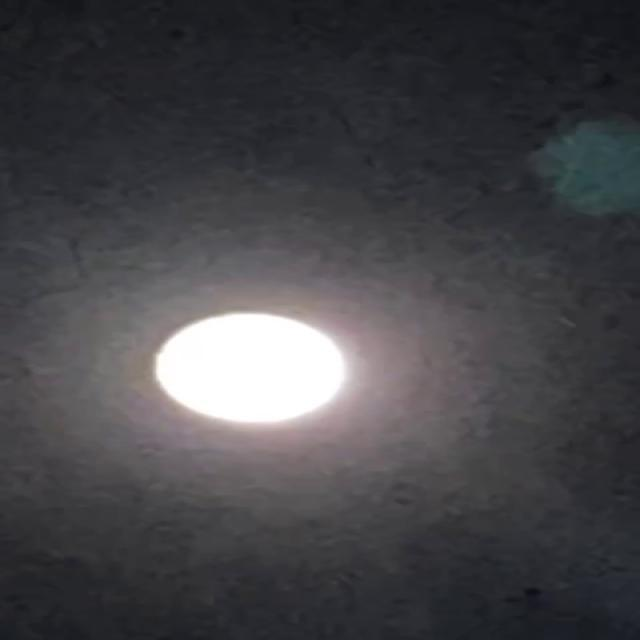moon: (150, 295, 374, 439)
